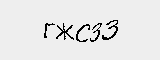Г: (40, 21, 55, 40)
Ж: (51, 22, 75, 41)
З: (100, 19, 124, 41), (88, 22, 103, 44)
С: (75, 20, 90, 46)
